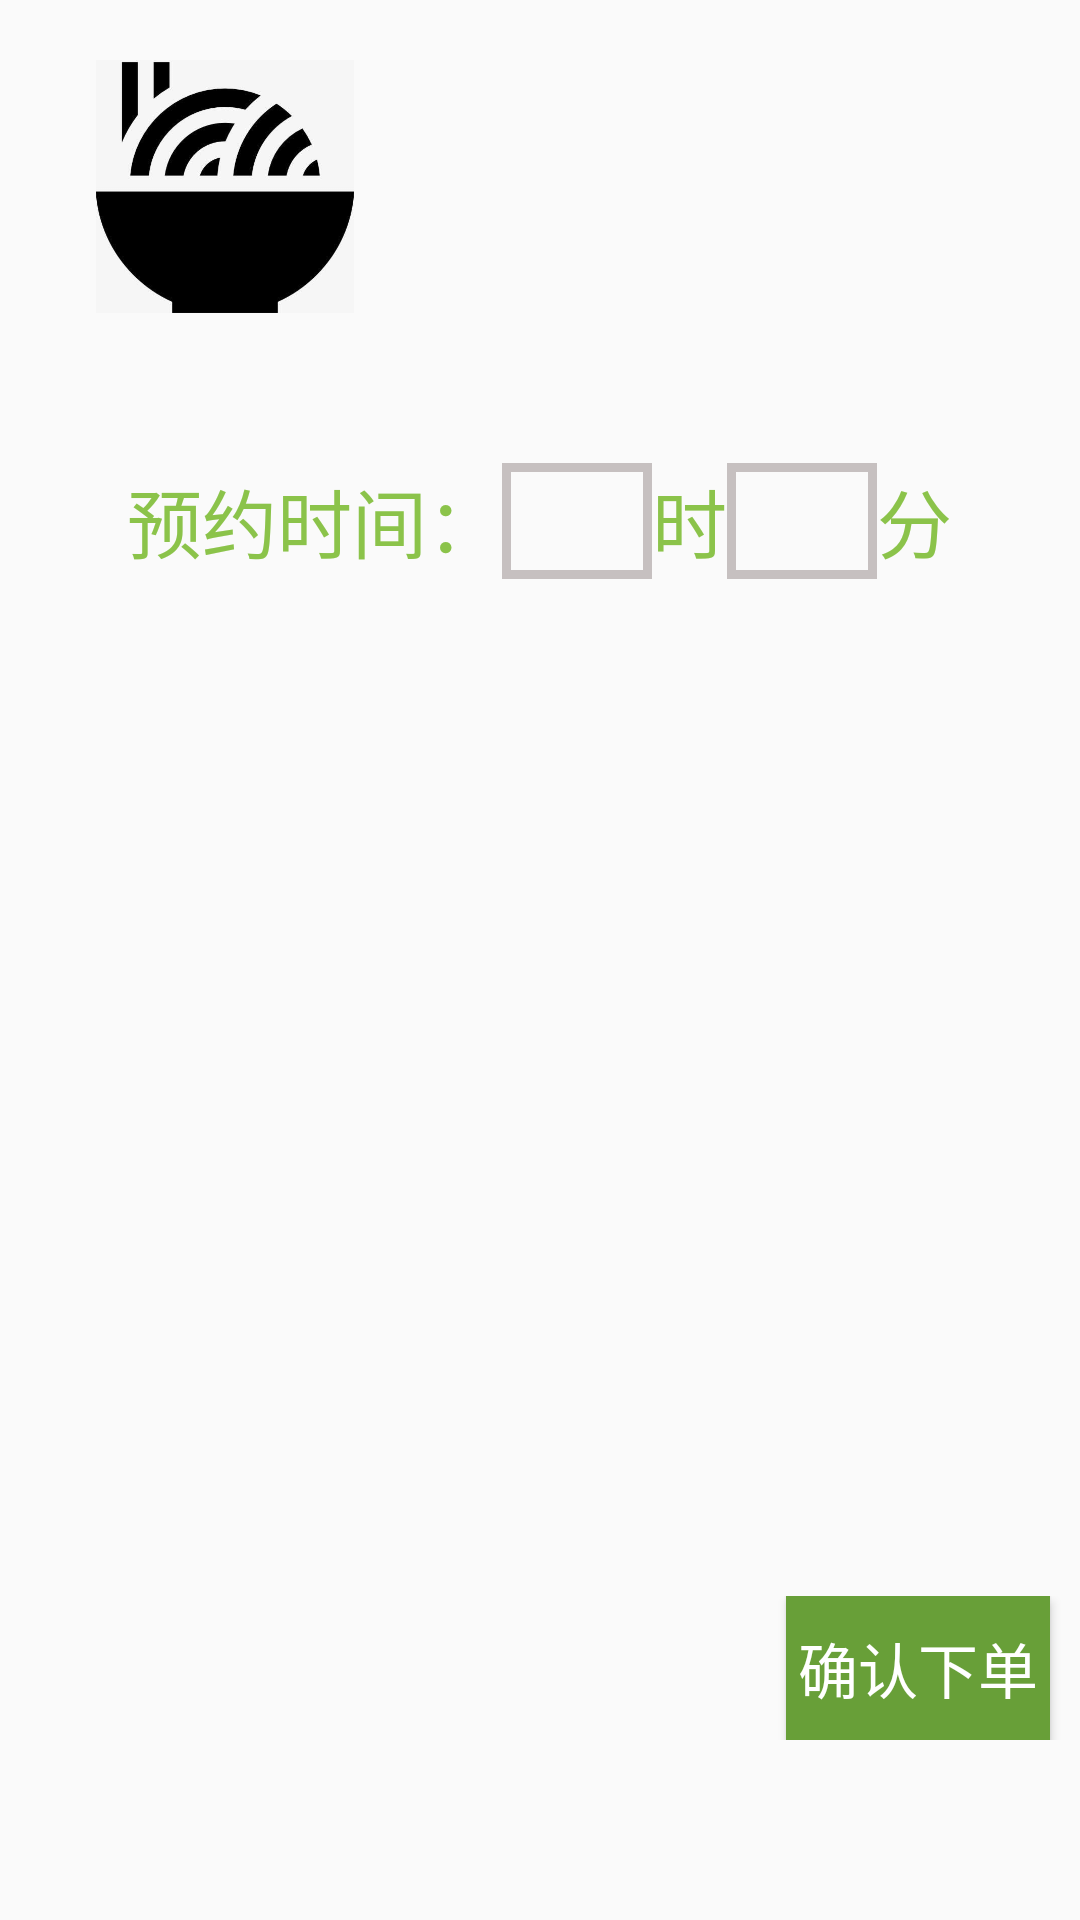

Icon click points for this 1080px x 1920px phone screenshot, format (x,y):
food pic: (225,187)
